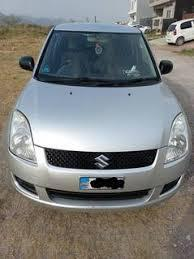Hatchback: (5, 19, 192, 204), (165, 18, 194, 46)
